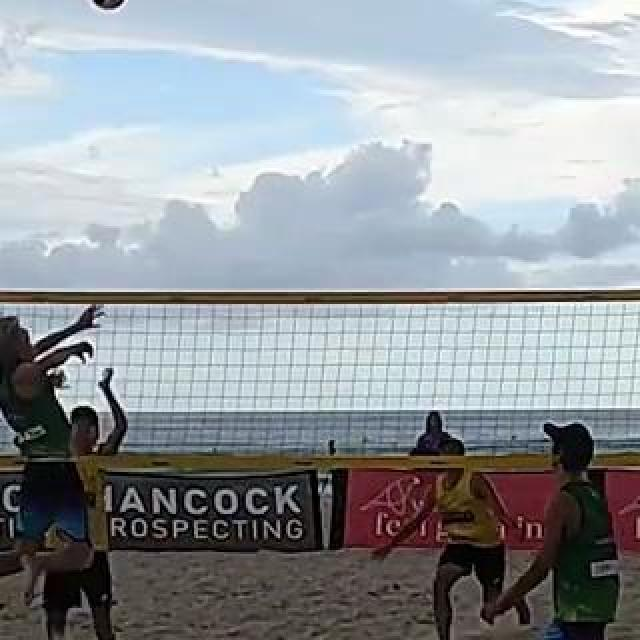volleyball: (88, 0, 126, 12)
